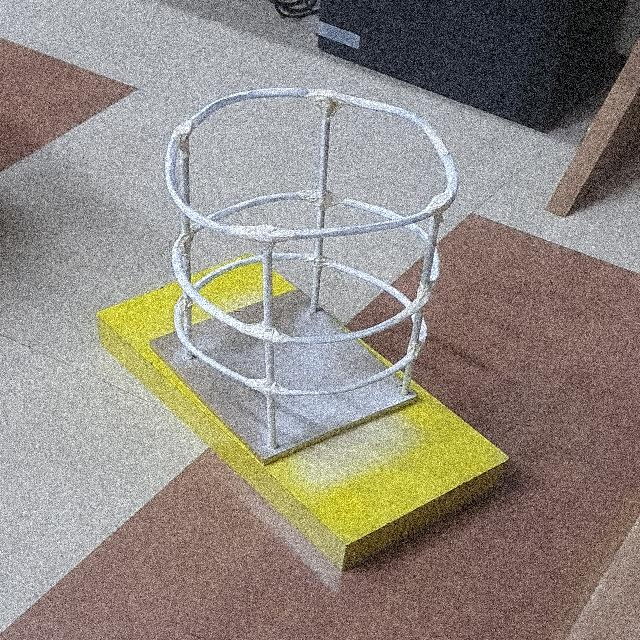silo: (174, 86, 462, 461)
